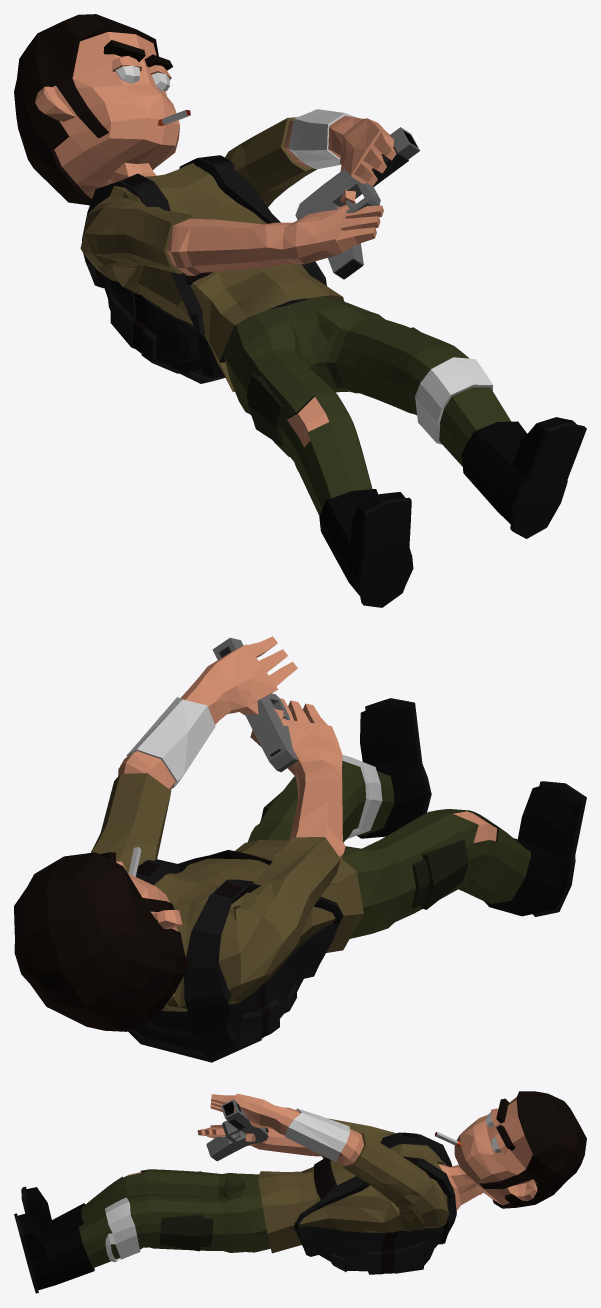
File: frame_0060.obj
The picture shows the model from 3 angles, top to bottom: view 1: azimuth 30°, elevation 25°; view 2: azimuth 150°, elevation 25°; view 3: azimuth 270°, elevation 25°; orthographic projection. The views are drawn at different scales.
Visible parts, largest first — view 1: Body, Gun; view 2: Body, Gun; view 3: Body, Gun.
Part boxes in pixels (x1,y1,x2,y2): Body: (14,14,586,607); Gun: (295,127,419,279); Body: (14,636,586,1062); Gun: (212,637,297,772); Body: (14,1091,586,1293); Gun: (206,1099,268,1161).
Bounding box in the file's own units: 1.22 × 1.81 × 4.16.
